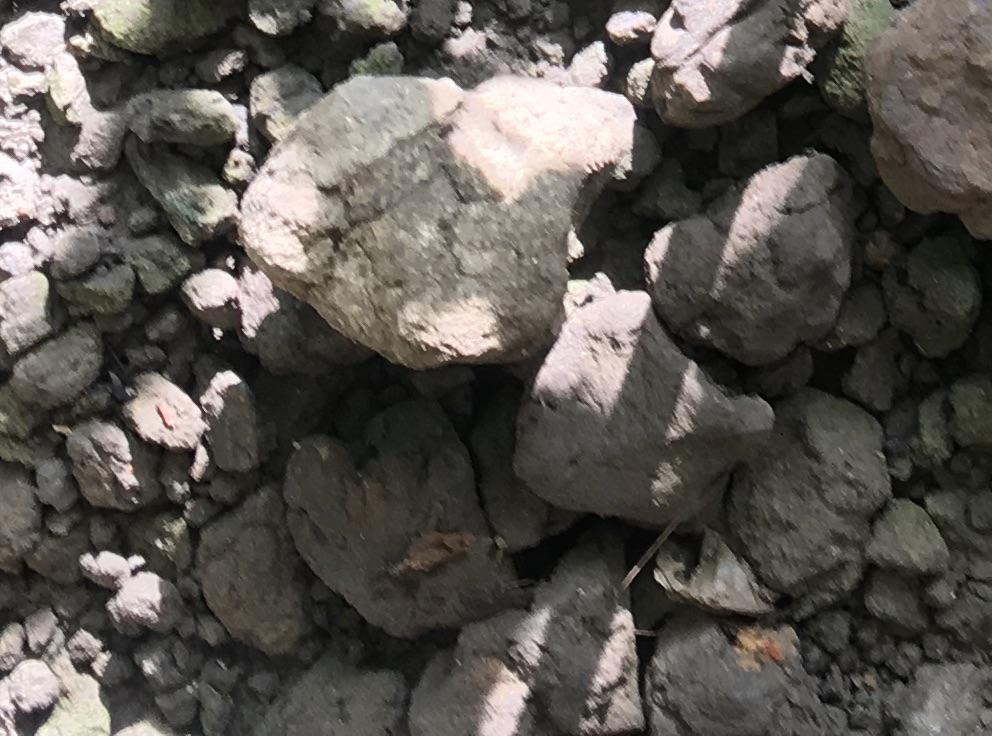block: (232, 72, 652, 372), (511, 295, 778, 540), (283, 397, 532, 636), (639, 149, 863, 367)
